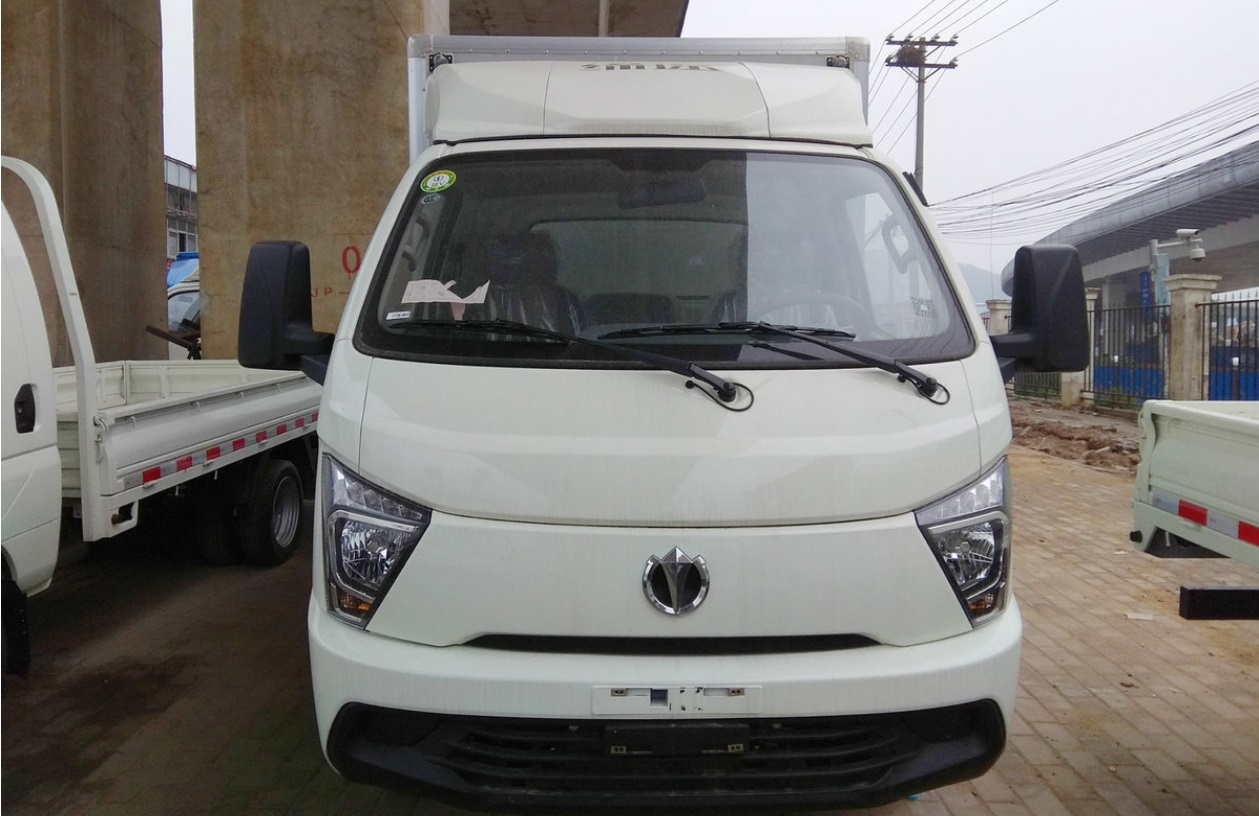truck: (237, 27, 1095, 816)
